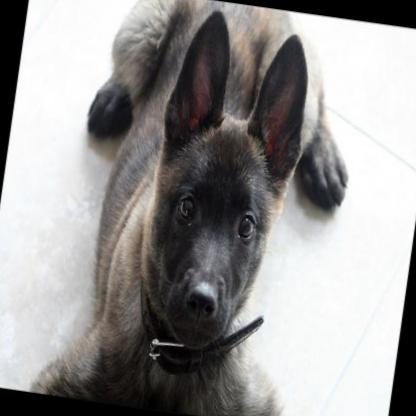German_shepherd: (24, 0, 371, 416)
